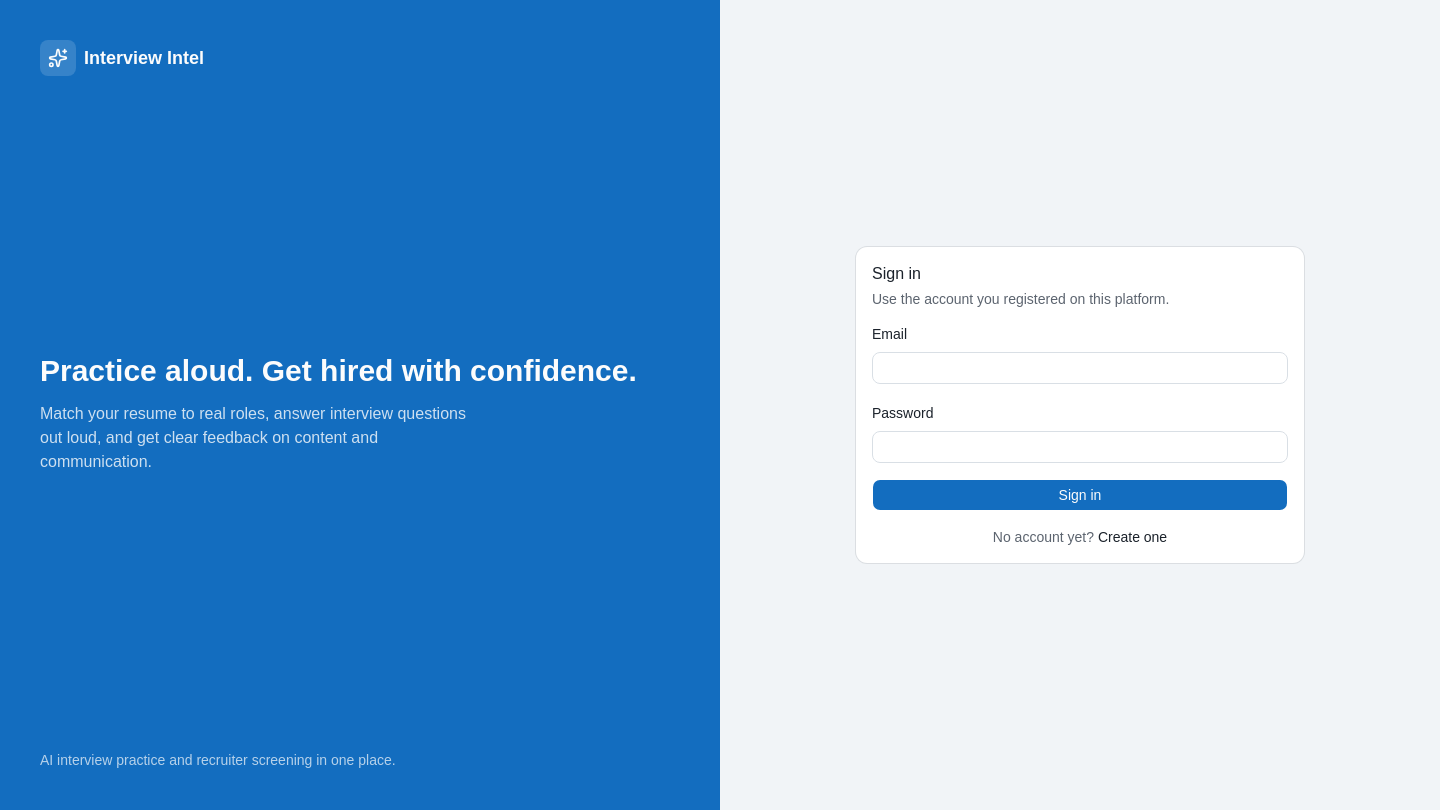
login as a candidate lands on the candidate dashboard
In the field labelled "Email": (1080, 368) [872, 352, 1288, 384], type "smoke-candidate@example.com"
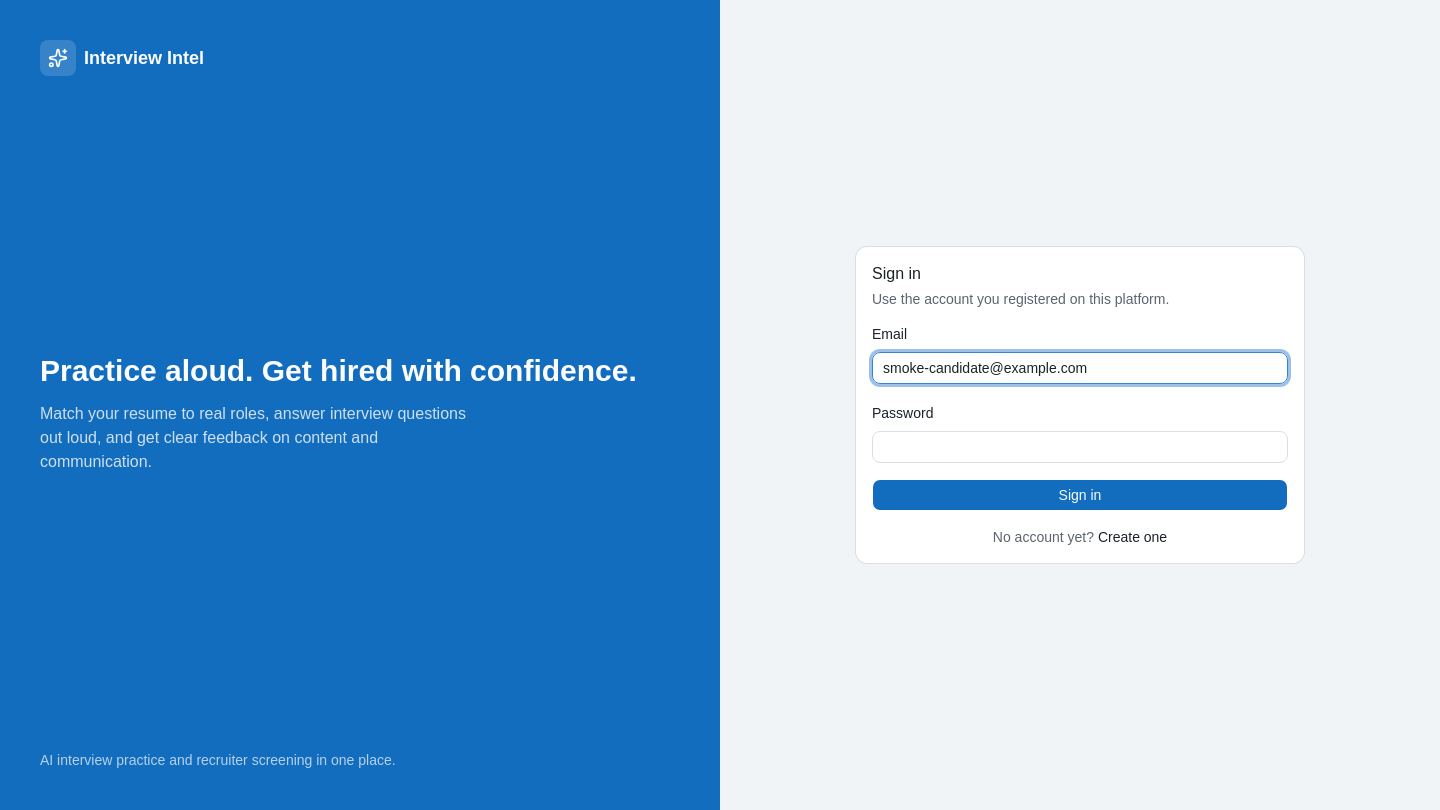
In the password field labelled "Password": (1080, 447) [872, 431, 1288, 463], type "smoke-pass"
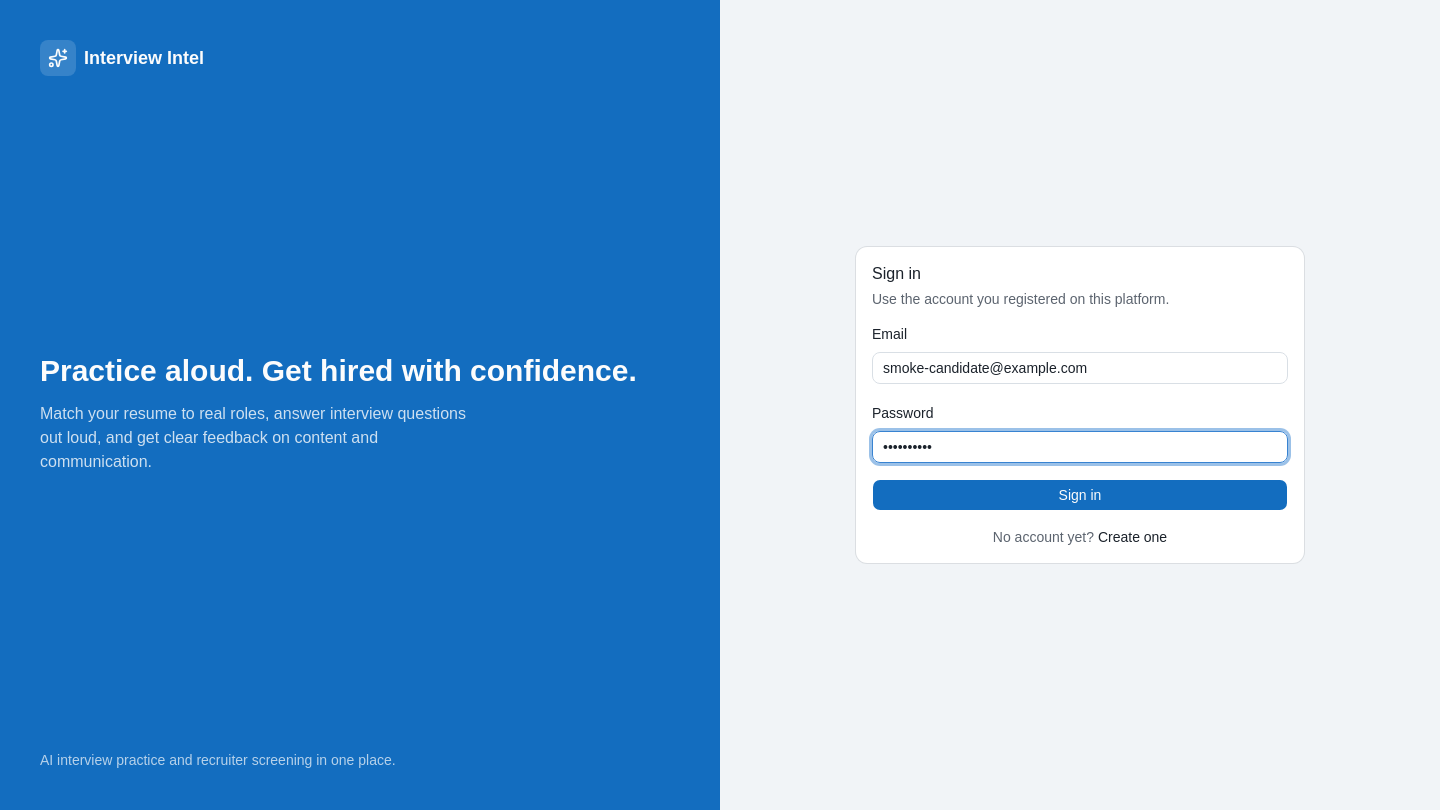
Click the button "Sign in": (1080, 495) [872, 479, 1288, 511]
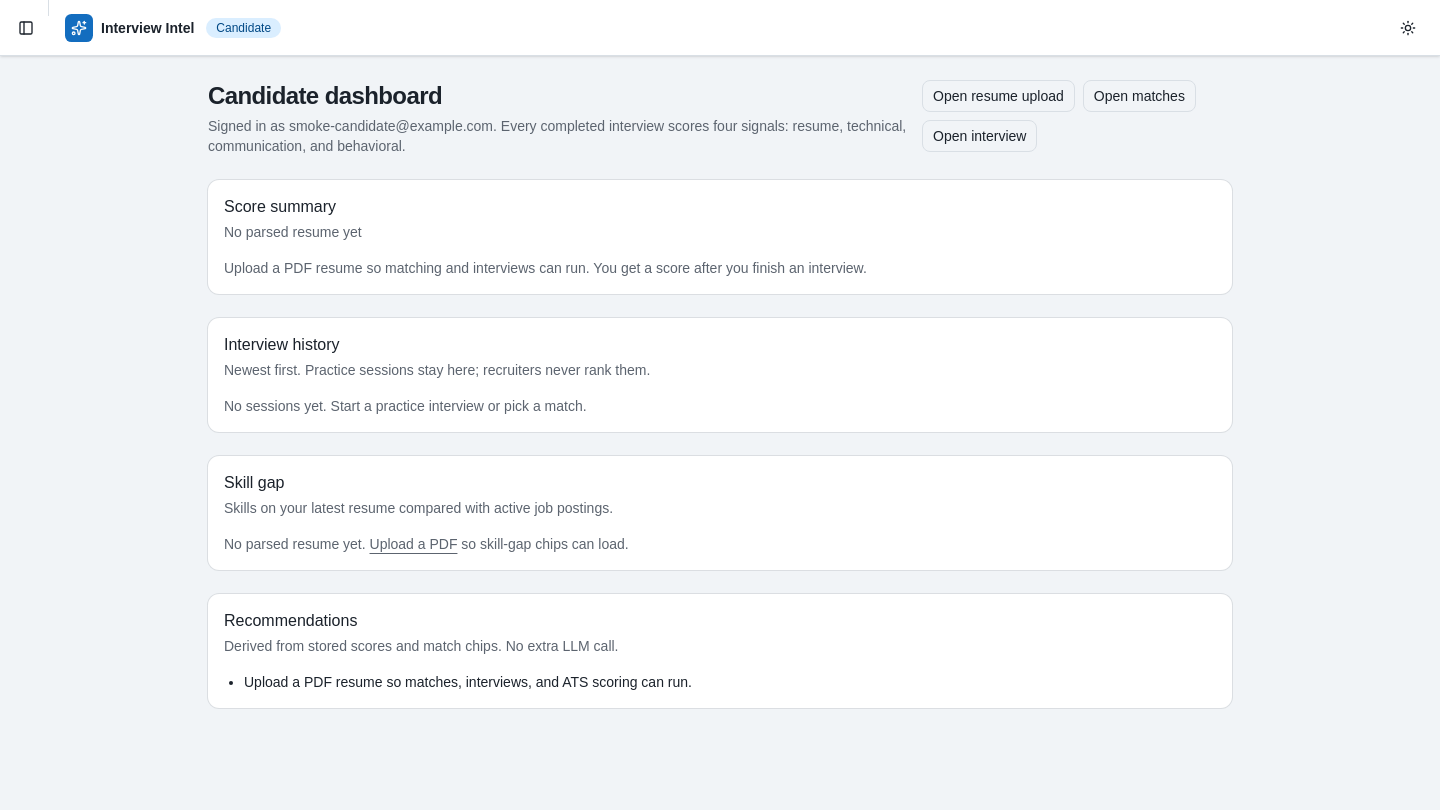
Now the heading "Candidate dashboard" is shown, box [208, 82, 442, 109]
